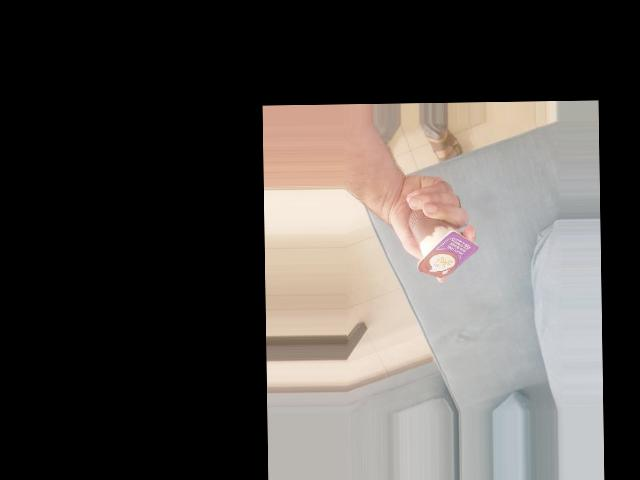milky: (476, 253, 553, 321)
